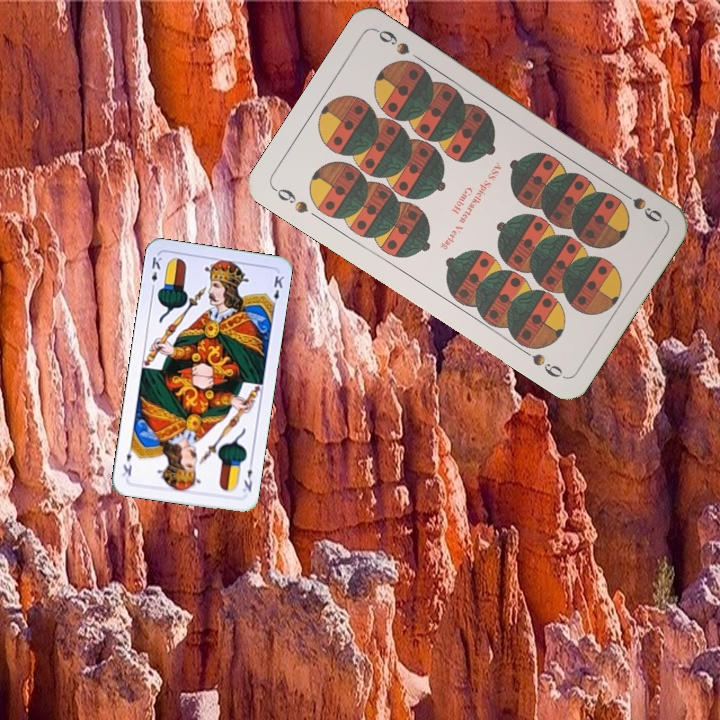EK: (147, 253, 164, 293), (239, 457, 255, 495)
S9: (614, 185, 665, 225), (269, 183, 311, 216)
